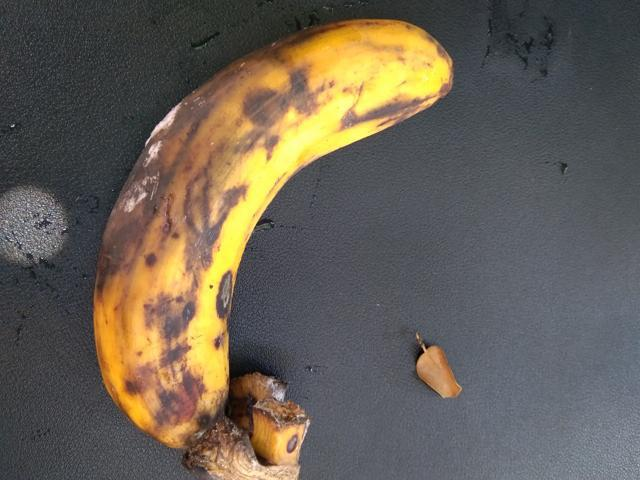overripe: (98, 17, 458, 462)
rotten: (71, 38, 286, 316)
